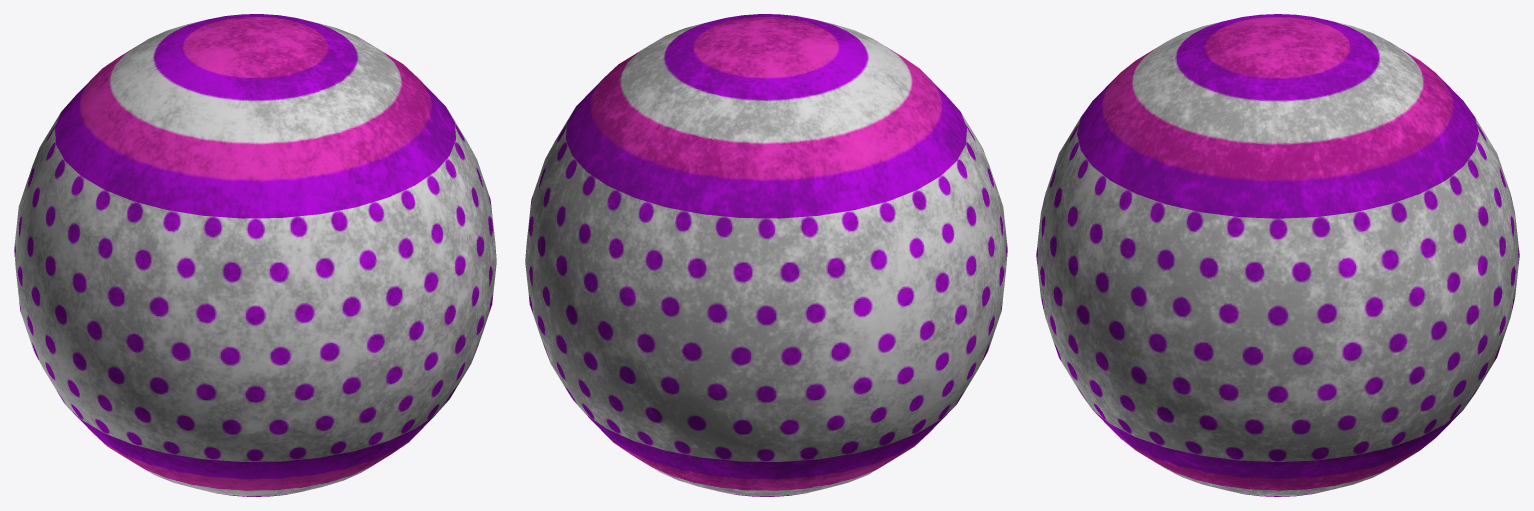
File: ball-01-barked.fbx
3 renders of one model, left to right at view 1: azimuth 30°, elevation 25°; view 2: azimuth 150°, elevation 25°; view 3: azimuth 270°, elevation 25°, orthographic.
Visible parts, largest first — view 1: 6.Break.015, 6.Break, 6.Break.011, 6.Break.013, 6.Break.008, 6.Break.002, 6.Break.007, 6.Break.004, 6.Break.010, 6.Break.001, 6.Break.003, 6.Break.016; view 2: 6.Break.005, 6.Break.002, 6.Break.014, 6.Break.016, 6.Break.007, 6.Break.011, 6.Break.001, 6.Break, 6.Break.006, 6.Break.012, 6.Break.004, 6.Break.010; view 3: 6.Break.014, 6.Break.003, 6.Break.004, 6.Break.001, 6.Break.013, 6.Break.015, 6.Break.012, 6.Break.010, 6.Break.007, 6.Break.005, 6.Break.011.
Boxes of the visible parts, x1,y1,x2,y2 form: 6.Break.015: (219, 211, 484, 441); 6.Break: (50, 235, 281, 440); 6.Break.011: (55, 46, 277, 237); 6.Break.013: (240, 79, 482, 264); 6.Break.008: (78, 406, 427, 496); 6.Break.002: (14, 144, 68, 374); 6.Break.007: (50, 15, 245, 152); 6.Break.004: (325, 26, 476, 183); 6.Break.010: (271, 50, 476, 212); 6.Break.001: (236, 14, 329, 60); 6.Break.003: (458, 138, 496, 384); 6.Break.016: (22, 316, 87, 426); 6.Break.005: (608, 152, 871, 401); 6.Break.002: (778, 204, 978, 380); 6.Break.014: (525, 140, 665, 429); 6.Break.016: (666, 367, 963, 481); 6.Break.007: (634, 37, 896, 217); 6.Break.011: (787, 25, 982, 223); 6.Break.001: (564, 19, 798, 176); 6.Break: (957, 129, 1007, 394); 6.Break.006: (662, 413, 924, 496); 6.Break.012: (594, 418, 761, 496); 6.Break.004: (559, 16, 737, 141); 6.Break.010: (737, 14, 818, 25); 6.Break.014: (1262, 161, 1517, 461); 6.Break.003: (1099, 218, 1379, 448); 6.Break.004: (1136, 71, 1384, 256); 6.Break.001: (1229, 31, 1456, 209); 6.Break.013: (1063, 41, 1202, 299); 6.Break.015: (1036, 100, 1130, 432); 6.Break.012: (1119, 381, 1482, 496); 6.Break.010: (1116, 37, 1236, 257); 6.Break.007: (1267, 16, 1443, 129); 6.Break.005: (1419, 60, 1519, 281); 6.Break.011: (1133, 14, 1308, 62).
Bounding box in the file's own units: 100 × 100 × 100.
